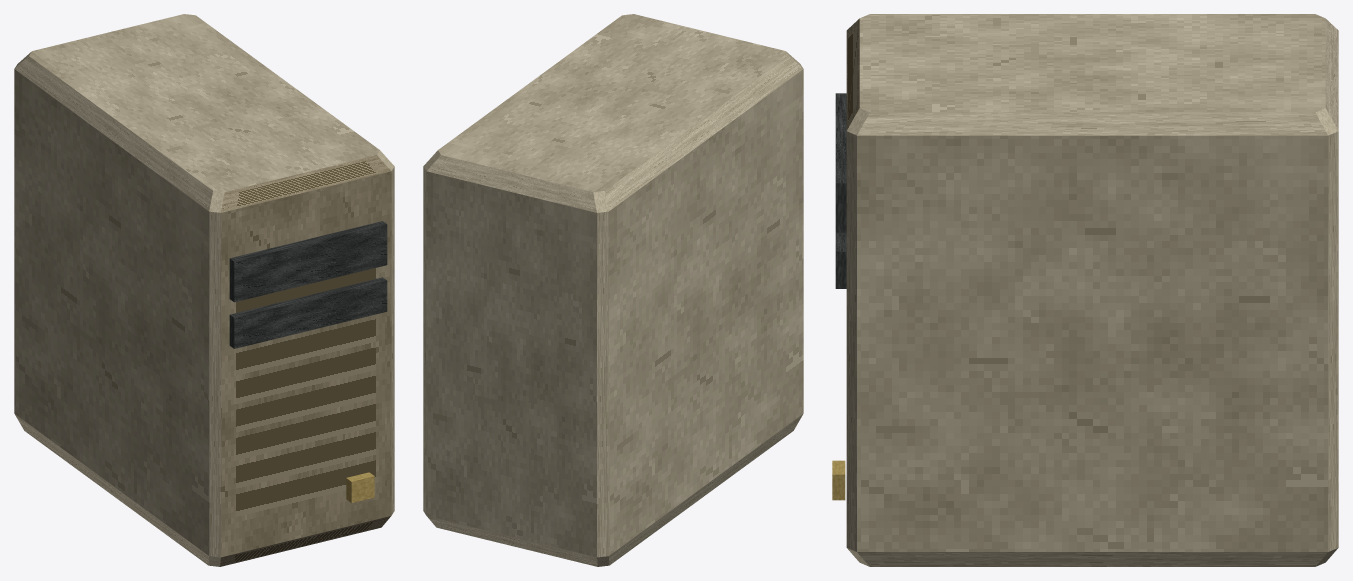
Rendered from computer.glb.
3 renders of one model, left to right at view 1: azimuth 30°, elevation 25°; view 2: azimuth 150°, elevation 25°; view 3: azimuth 270°, elevation 25°, orthographic. The views are drawn at different scales.
Visible parts, largest first — view 1: Body; view 2: Body; view 3: Body.
Boxes of the visible parts, x1,y1,x2,y2 form: Body: (14,14,394,566); Body: (423,14,803,566); Body: (832,14,1338,566).
Size of the model in its own units: 0.2 by 0.385 by 0.391.
Materials: 1 (1 with a texture image).
